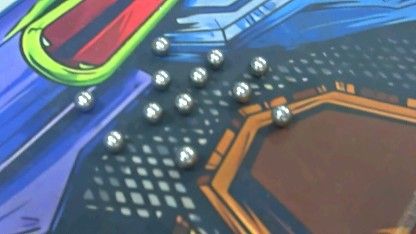ironball: (246, 51, 269, 76), (99, 128, 122, 152), (141, 100, 163, 125), (149, 69, 173, 91), (174, 144, 195, 169), (205, 46, 225, 70), (185, 65, 207, 86), (270, 105, 294, 124), (173, 93, 194, 114), (230, 80, 251, 101), (73, 90, 93, 110), (148, 36, 170, 53)
